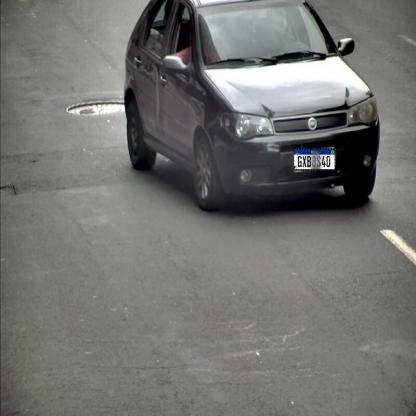PlacaM: (294, 148, 336, 171)
